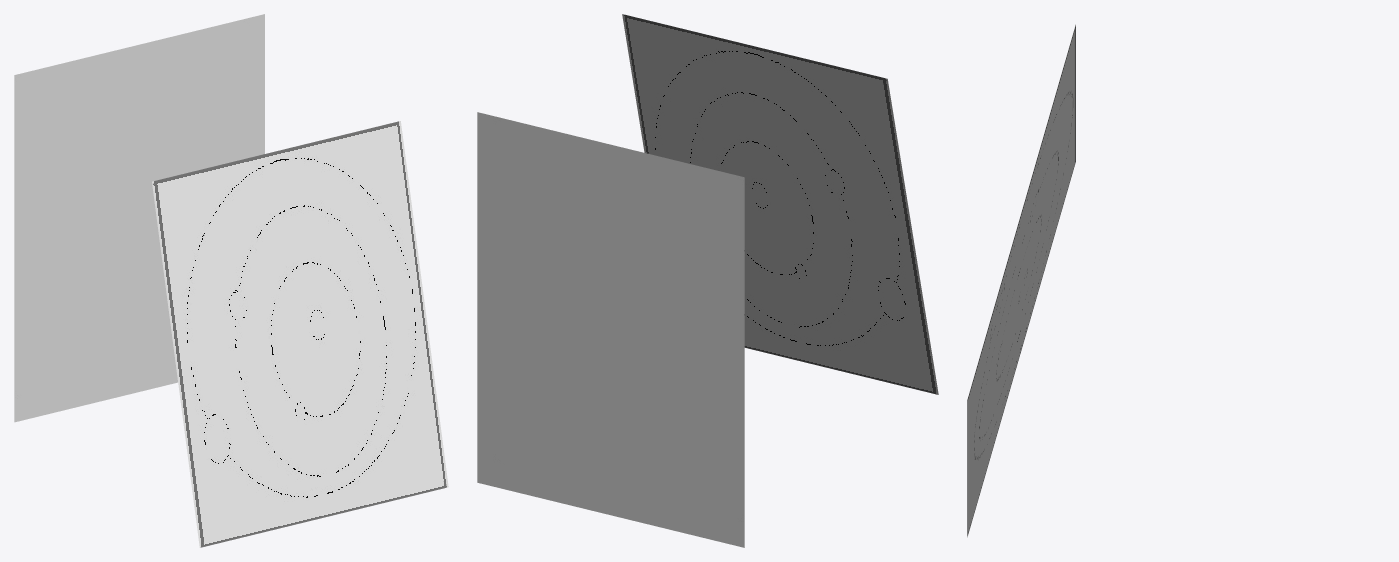
The model's file is Static ride.glb.
The picture shows the model from 3 angles, left to right: view 1: azimuth 30°, elevation 25°; view 2: azimuth 150°, elevation 25°; view 3: azimuth 270°, elevation 25°; orthographic projection. The views are drawn at different scales.
Visible parts, largest first — view 1: mesh_id29, mesh_id1; view 2: mesh_id1, mesh_id29; view 3: mesh_id29.
Part boxes in pixels (x1,y1,x2,y2): mesh_id29: [152, 121, 448, 547]; mesh_id1: [14, 14, 264, 422]; mesh_id1: [477, 112, 744, 547]; mesh_id29: [622, 14, 938, 394]; mesh_id29: [967, 24, 1075, 537].
Bounding box in the file's own units: 0.272 × 0.36 × 0.3449.
2 materials, 2 textured.
